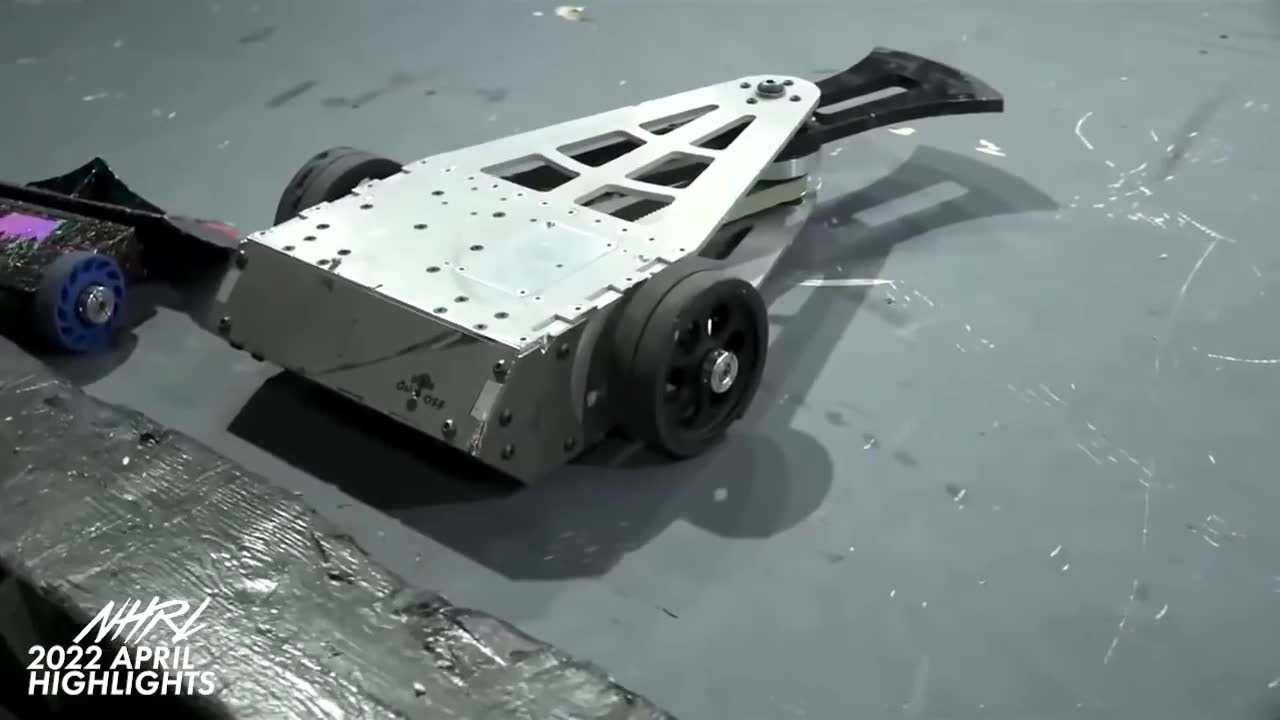combatbot: (205, 58, 820, 484), (0, 152, 243, 357)
